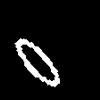chain: (15, 39, 59, 85)
